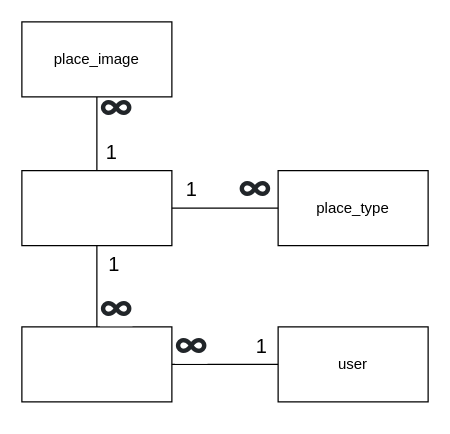
Some shapes in this 450 by 434 pixel diagram are drawn without their labels. The shapes that lost their labels are listed below. From the top down, each one's box as (x1, y1, x2, y2) in pixels, then its label:
(21, 169, 172, 246): place
(21, 326, 172, 402): place_reaction
